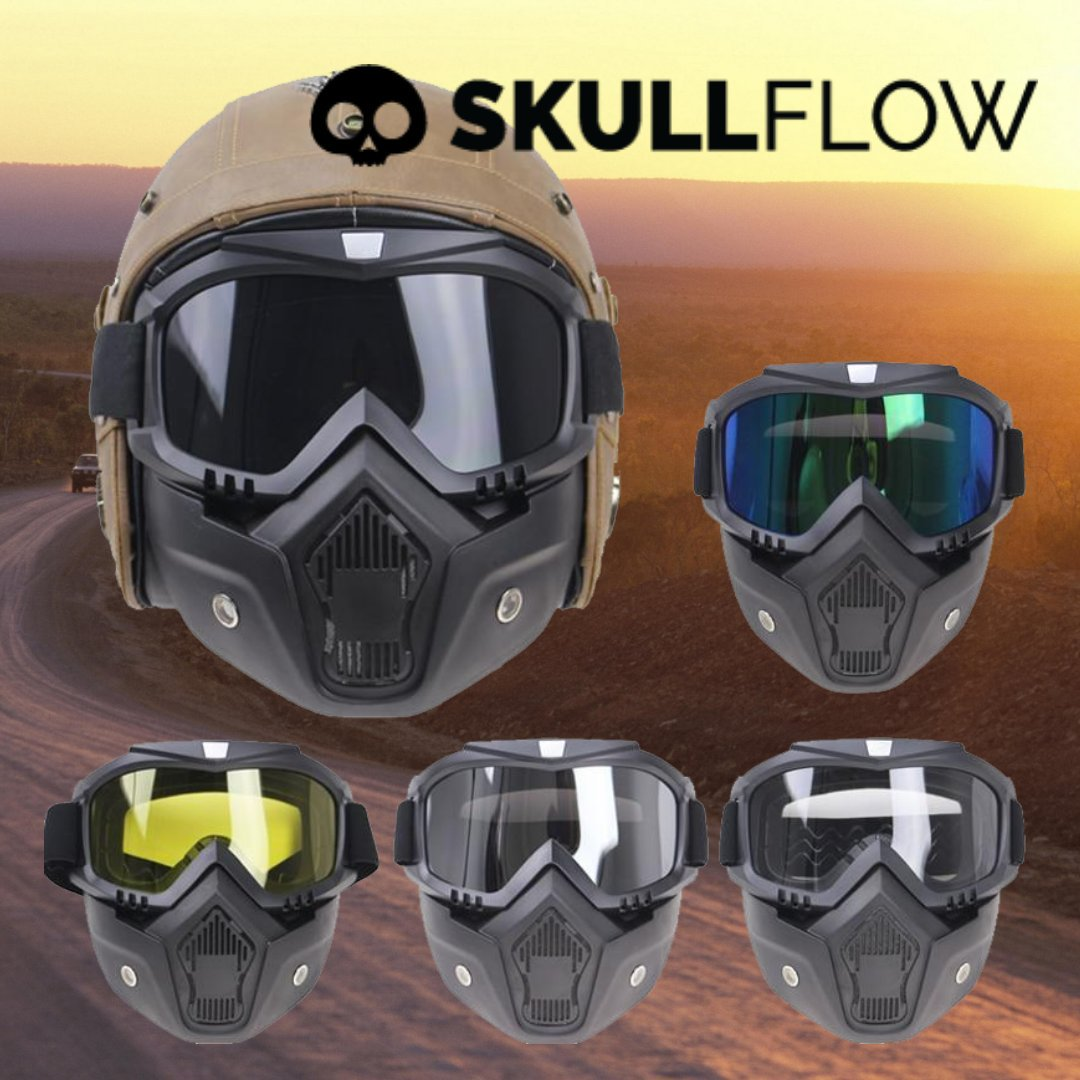with_helmet: (89, 63, 615, 695)
